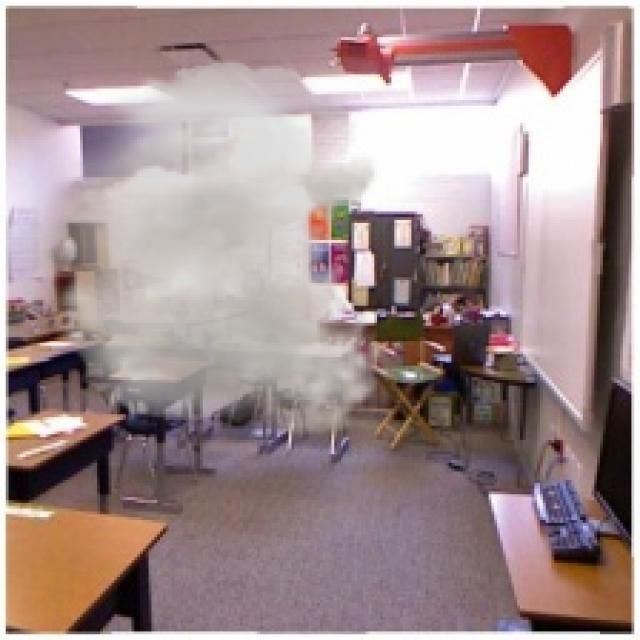smoke: (6, 60, 388, 437)
